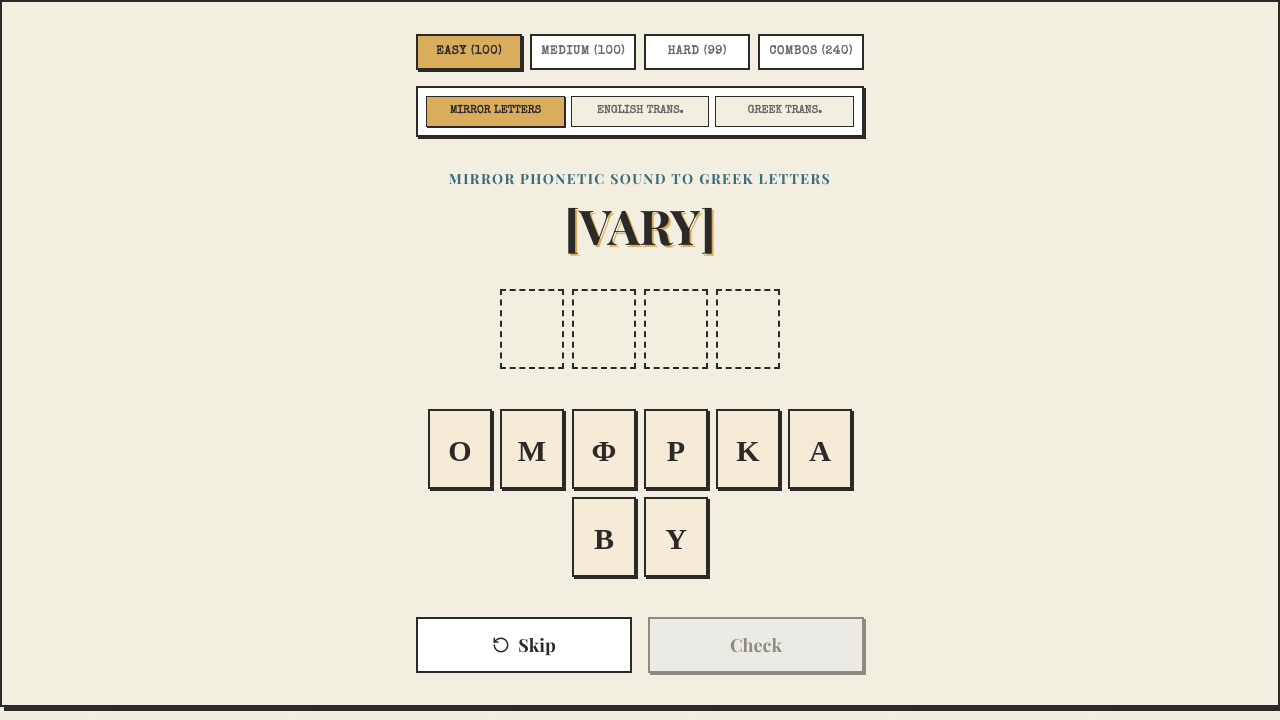
Test case: Greek Support › BuildingTrainer renders Greek prompt label and mode button in Greek mode
Click the button "Greek Trans." at (785, 111), box [715,96,854,126]
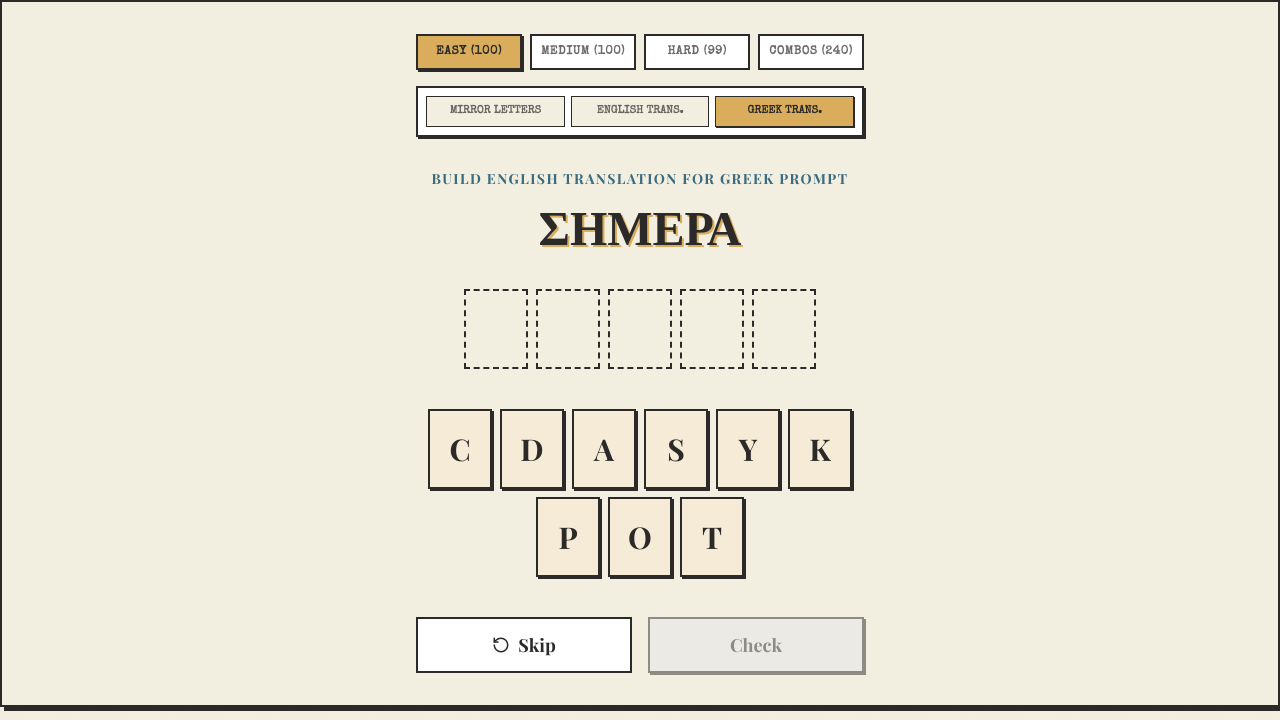
Check: the heading "Build English translation for Greek prompt" is shown, box [432,168,848,188]
